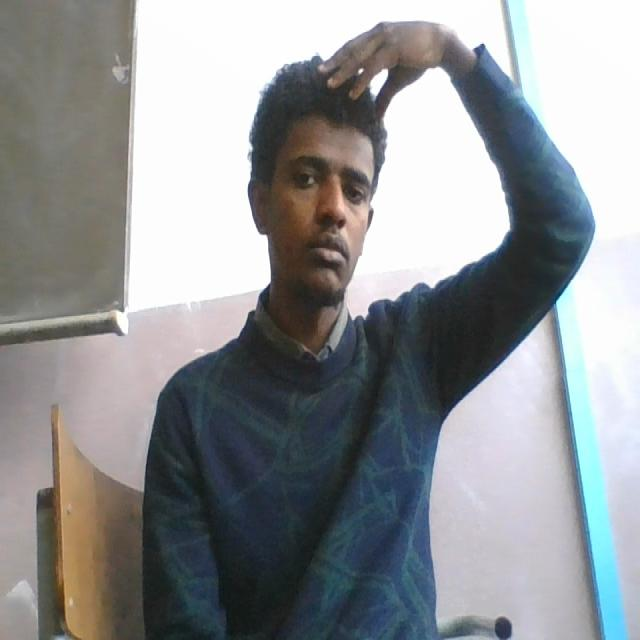mengist: (240, 15, 414, 183)
